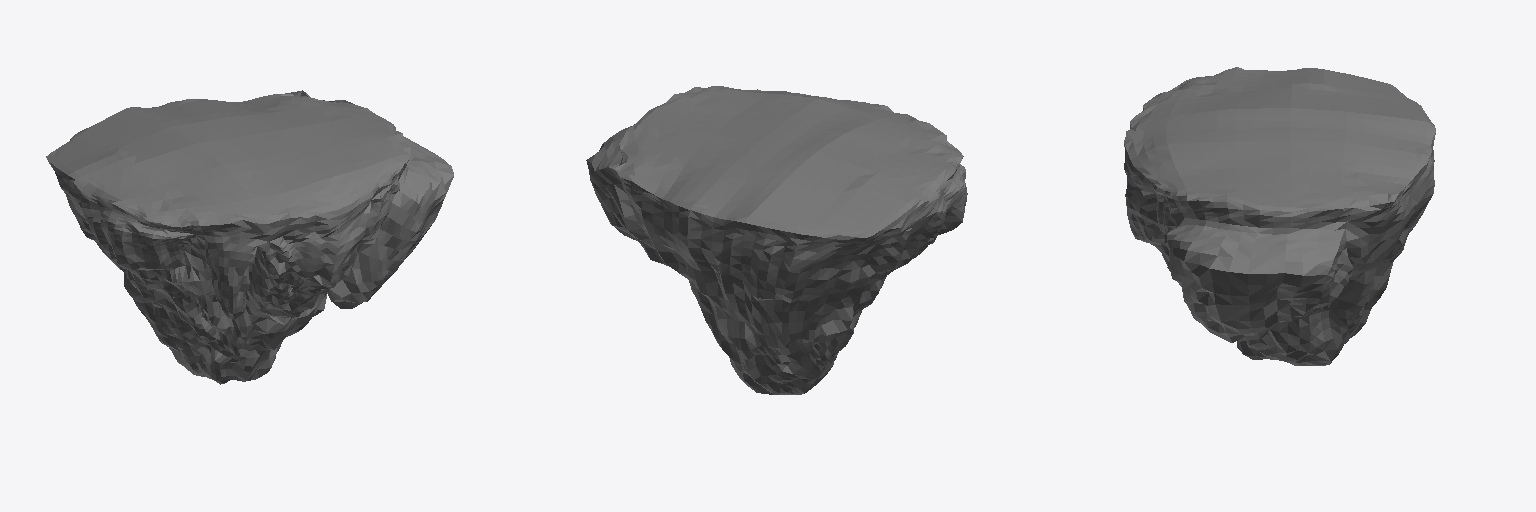
File: mountain.obj
3 views of the same model, side by side, from view 1: azimuth 30°, elevation 25°; view 2: azimuth 150°, elevation 25°; view 3: azimuth 270°, elevation 25° (orthographic).
Parts seen in each view (by area): view 1: shan02; view 2: shan02; view 3: shan02.
Boxes of the visible parts, box(x1,y1,x2,y2) form: shan02: box(46, 90, 453, 384); shan02: box(586, 86, 967, 394); shan02: box(1124, 67, 1435, 365).
Bounding box in the file's own units: 358 × 242 × 281.